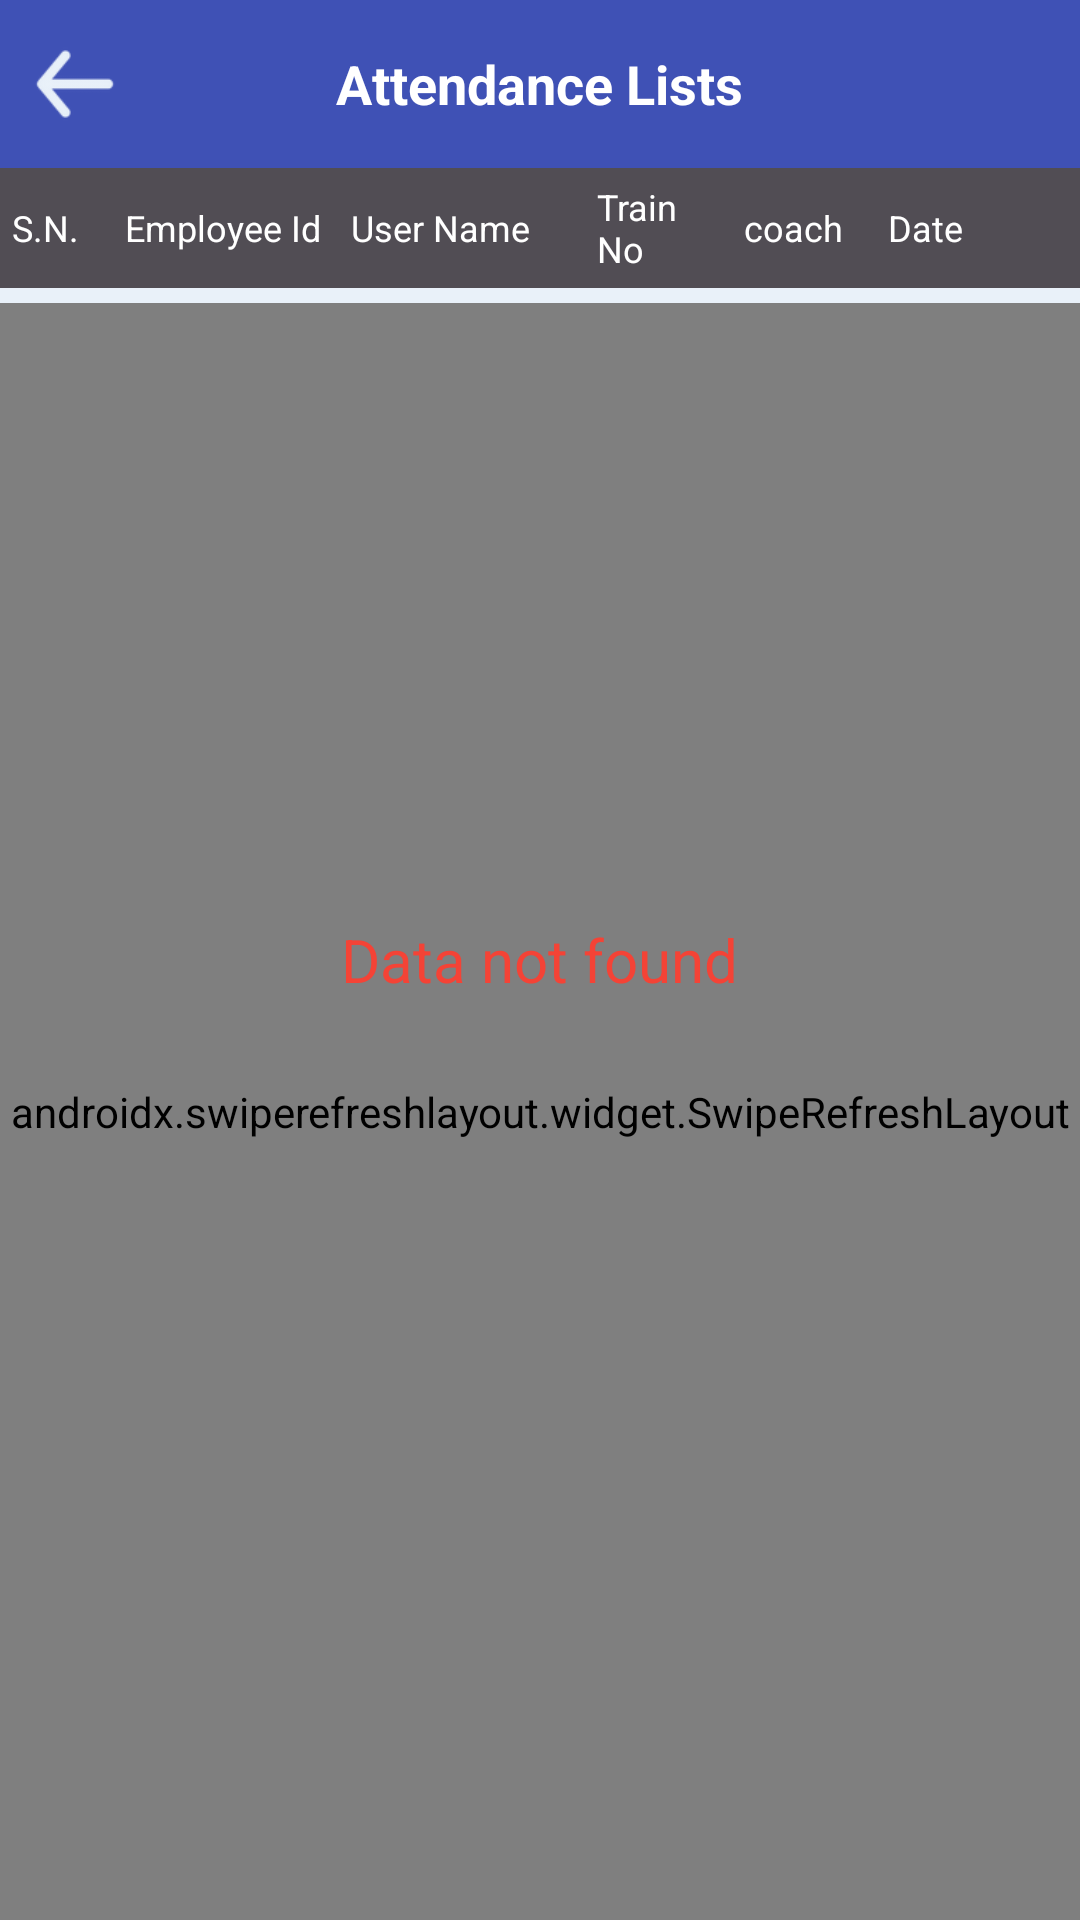

Screen size 1080px x 1920px. Icon name, then its center in pixels as [x,y]:
back: [75,84]
